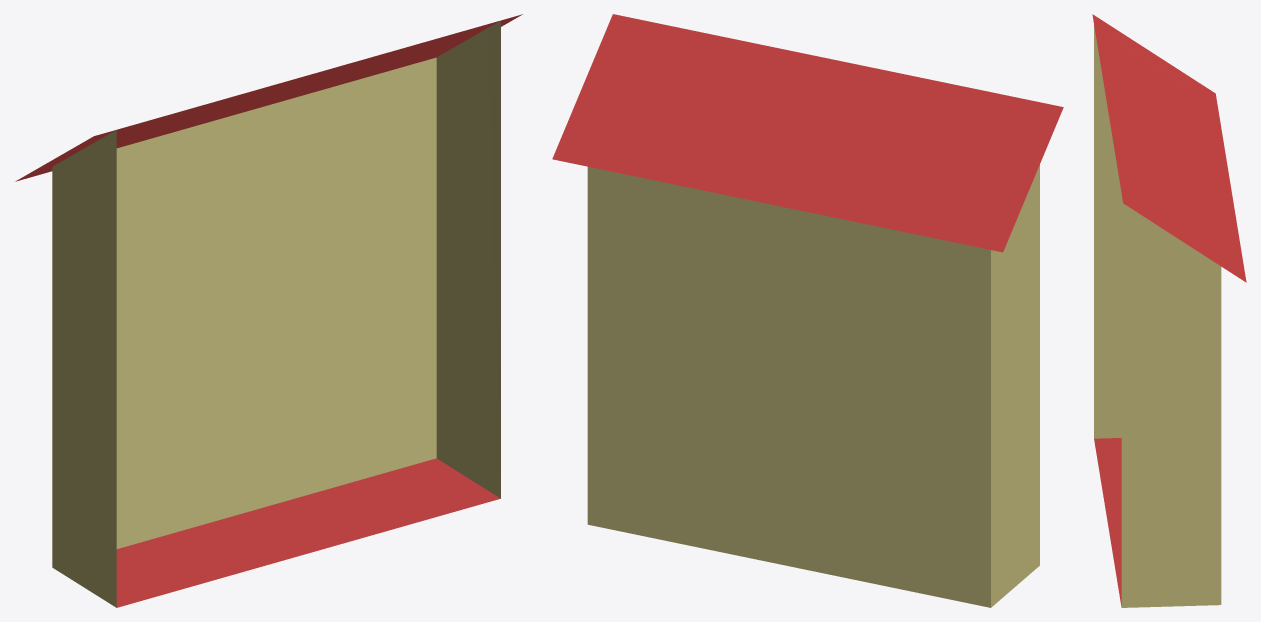
3 renders of one model, left to right at view 1: azimuth 30°, elevation 25°; view 2: azimuth 150°, elevation 25°; view 3: azimuth 270°, elevation 25°, orthographic. The views are drawn at different scales.
Size of the model in its own units: 9.59 by 3.24 by 9.61.
